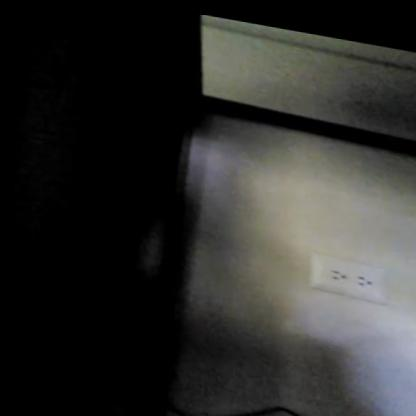OUTLET: (307, 252, 391, 302)
